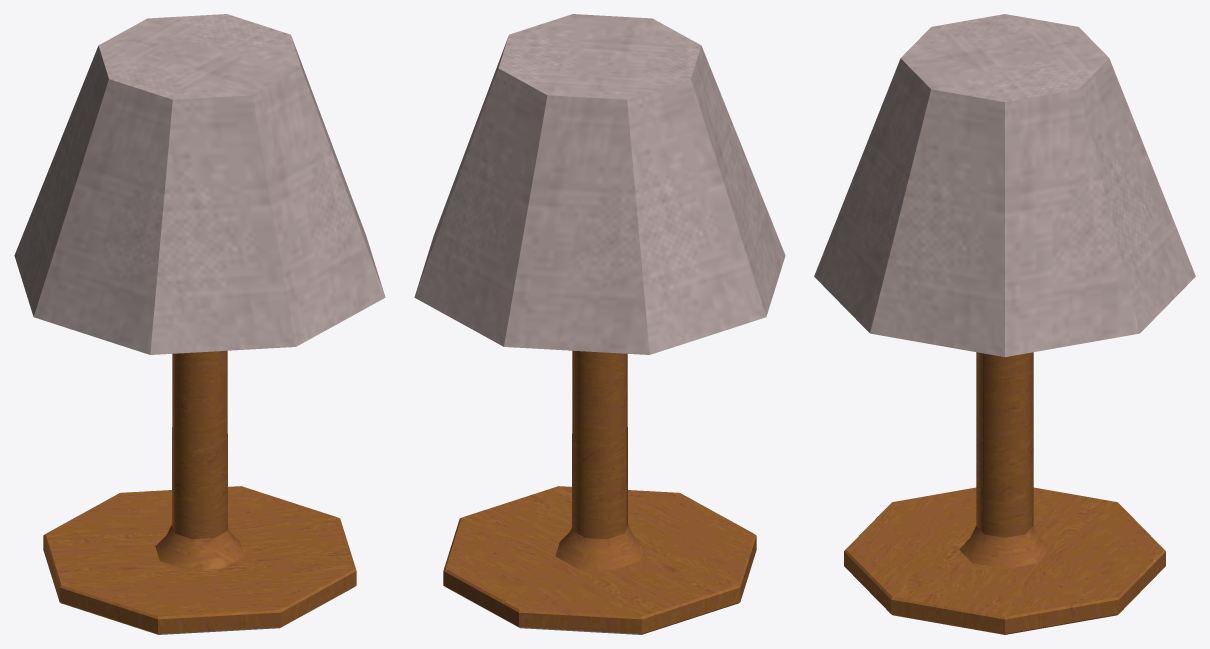
The model's file is tableLamp.fbx.
3 renders of one model, left to right at view 1: azimuth 30°, elevation 25°; view 2: azimuth 150°, elevation 25°; view 3: azimuth 270°, elevation 25°, orthographic.
Parts seen in each view (by area): view 1: tableLamp; view 2: tableLamp; view 3: tableLamp.
Boxes of the visible parts, x1=… form: tableLamp: x1=14, y1=14, x2=385, y2=634; tableLamp: x1=414, y1=14, x2=785, y2=634; tableLamp: x1=814, y1=14, x2=1195, y2=634.
Bounding box in the file's own units: 0.4175 × 0.616 × 0.4175.
